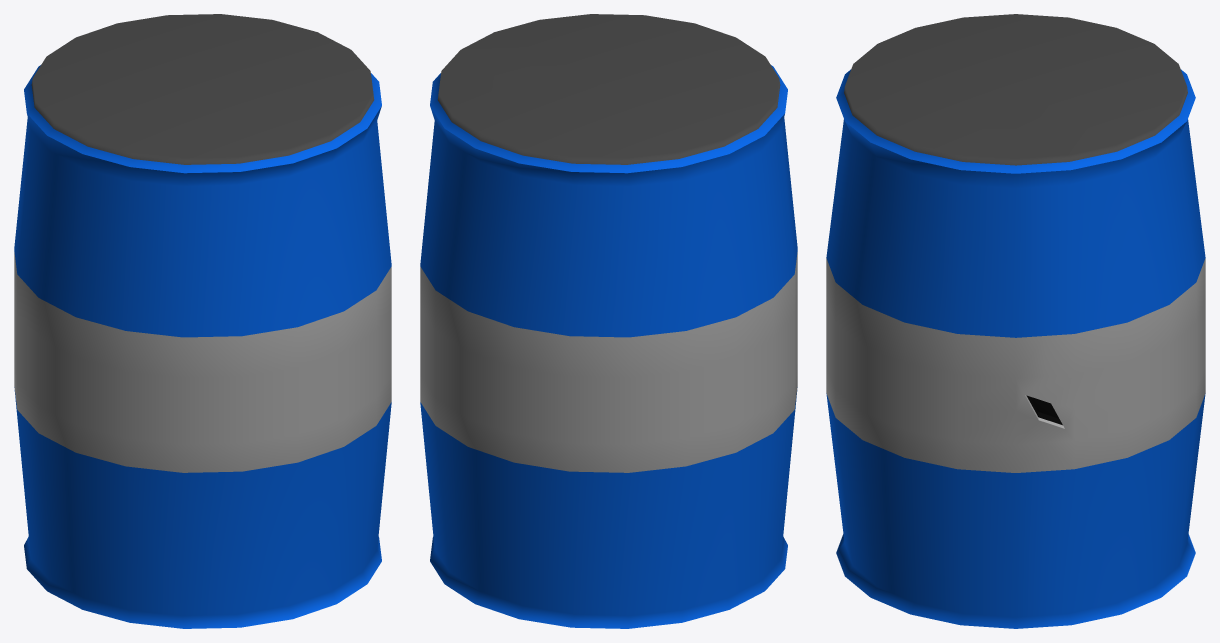
File: New_Barrel.fbx
The picture shows the model from 3 angles, left to right: view 1: azimuth 30°, elevation 25°; view 2: azimuth 150°, elevation 25°; view 3: azimuth 270°, elevation 25°; orthographic projection.
Visible parts, largest first — view 1: pCylinder1; view 2: pCylinder1; view 3: pCylinder1.
Part boxes in pixels (bbox=[...]): pCylinder1: bbox=[14, 14, 391, 628]; pCylinder1: bbox=[420, 14, 797, 628]; pCylinder1: bbox=[826, 14, 1205, 628].
Size of the model in its own units: 2.34 by 3.16 by 2.33.
